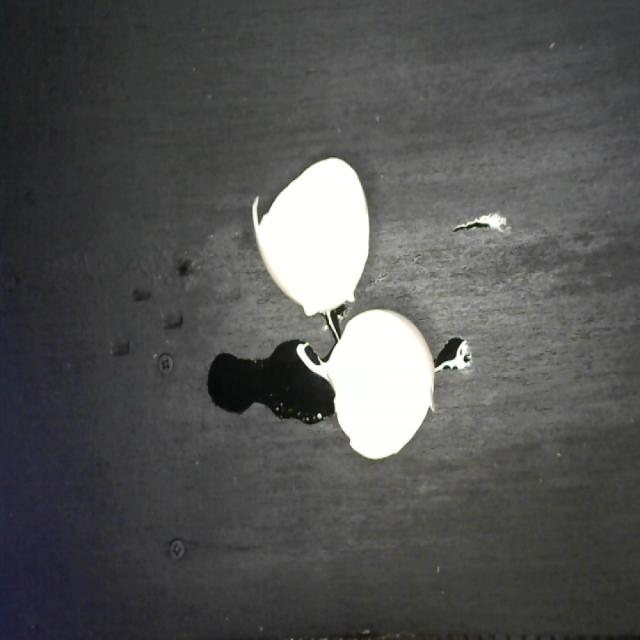biodegradable: (250, 150, 440, 464)
